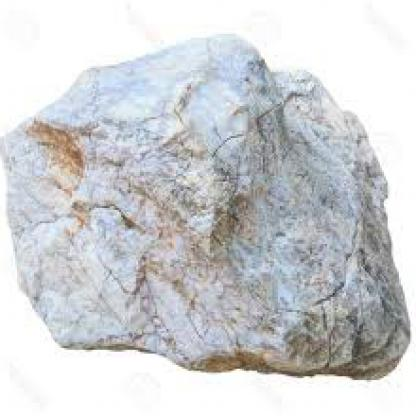Metamorphic_Marble: (2, 25, 406, 388)
